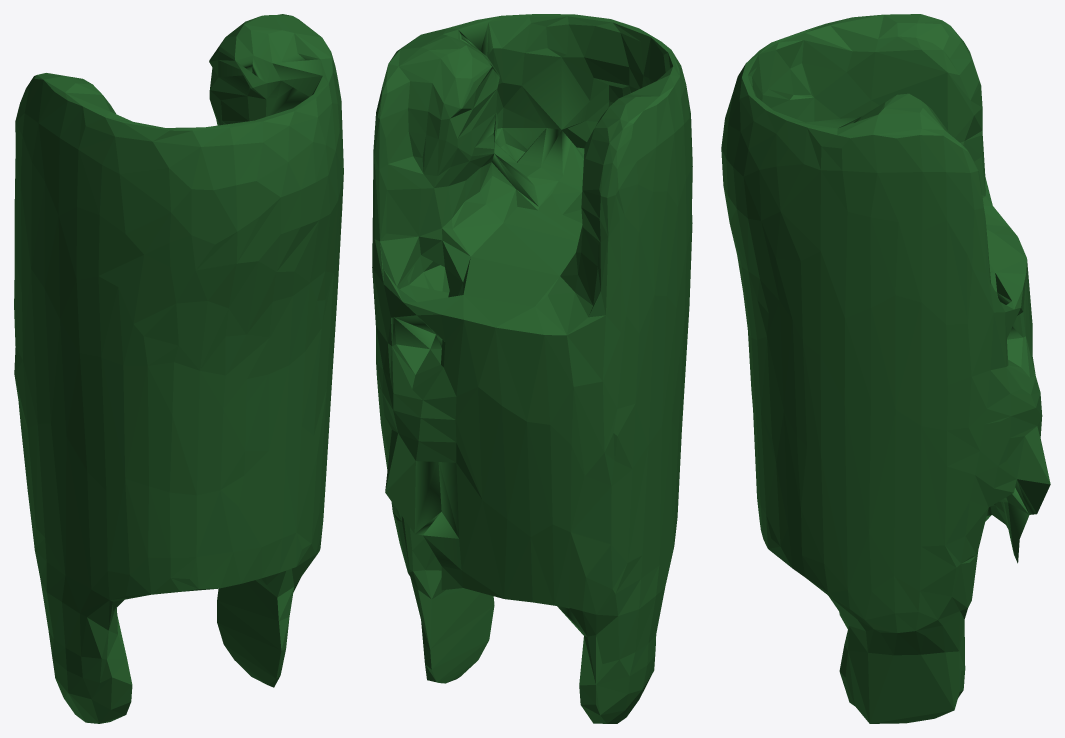
The model's file is sim_sea_2-5_l_shank_prt.obj.
3 renders of one model, left to right at view 1: azimuth 30°, elevation 25°; view 2: azimuth 150°, elevation 25°; view 3: azimuth 270°, elevation 25°, orthographic. The views are drawn at different scales.
Parts seen in each view (by area): view 1: sim_sea_2-5_l_shank_prt; view 2: sim_sea_2-5_l_shank_prt; view 3: sim_sea_2-5_l_shank_prt.
Part boxes in pixels (<box>): sim_sea_2-5_l_shank_prt: <box>14,14,343,723</box>; sim_sea_2-5_l_shank_prt: <box>372,14,692,723</box>; sim_sea_2-5_l_shank_prt: <box>721,14,1050,723</box>.
Size of the model in its own units: 108 by 246 by 117.
